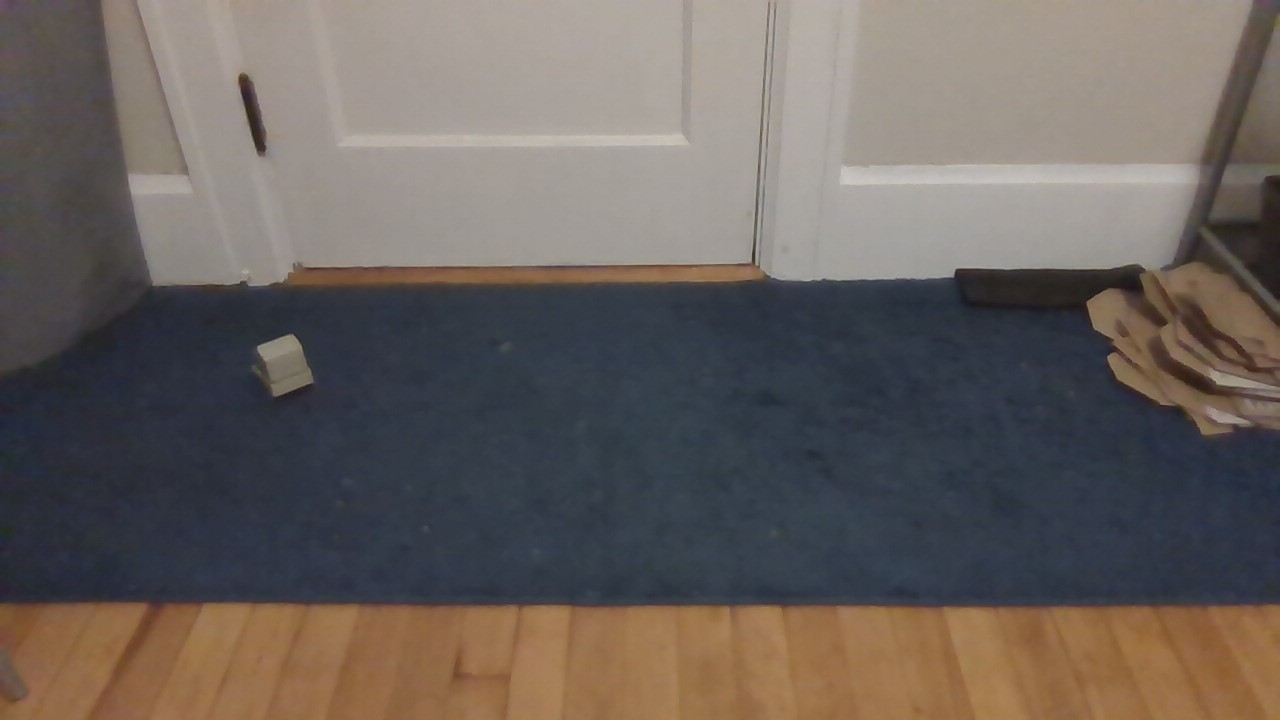Toy: (235, 325, 320, 405)
